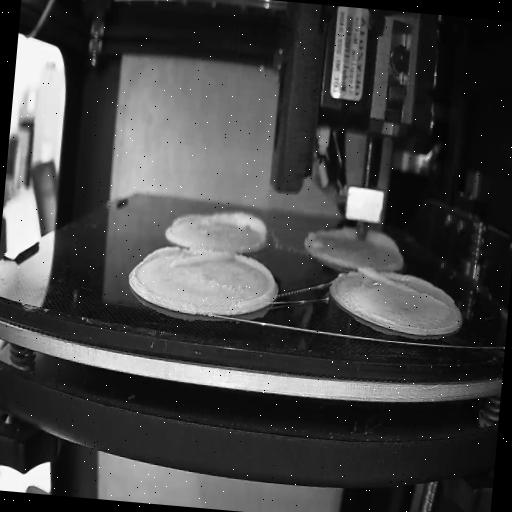over_extrusion: (354, 268, 454, 310), (143, 243, 235, 274), (232, 252, 280, 310), (208, 208, 270, 248), (366, 230, 407, 258), (314, 224, 356, 242)
